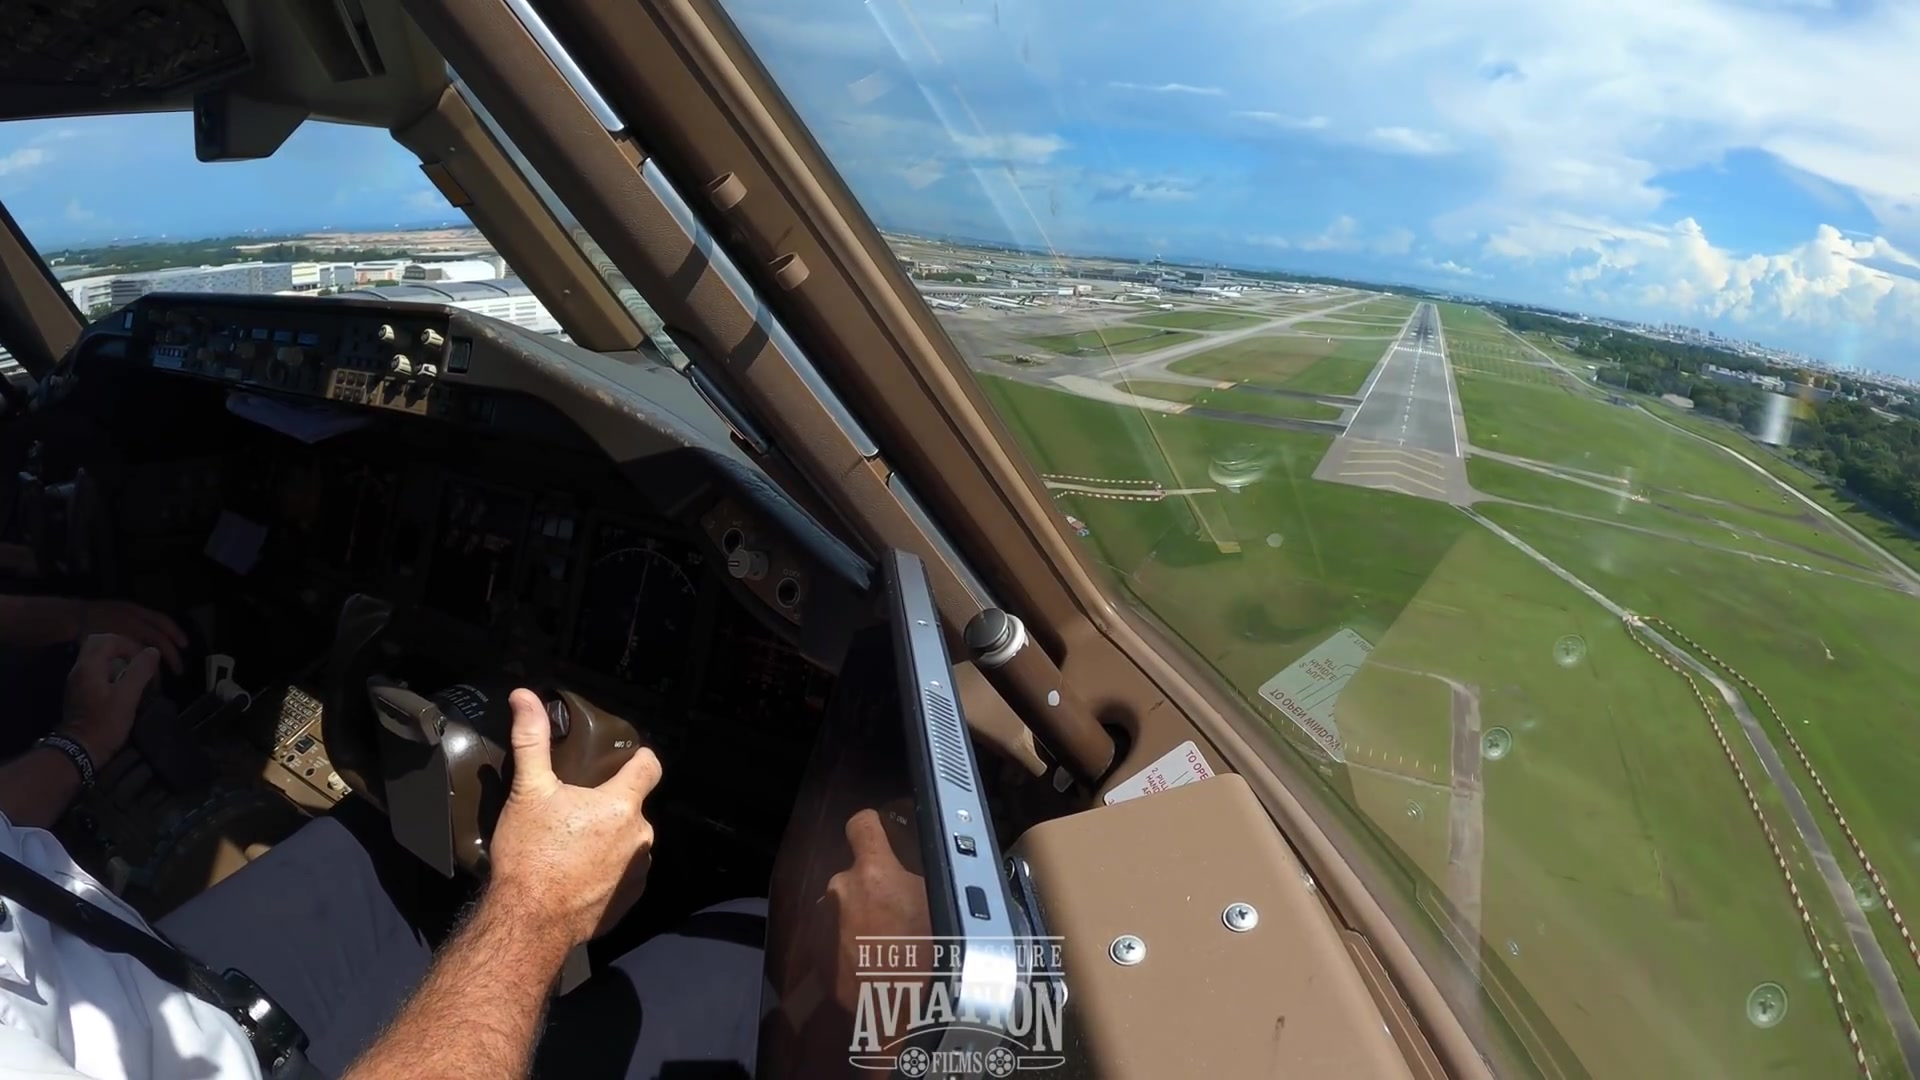entrance: (1390, 340, 1443, 357)
runway: (1308, 301, 1468, 508)
